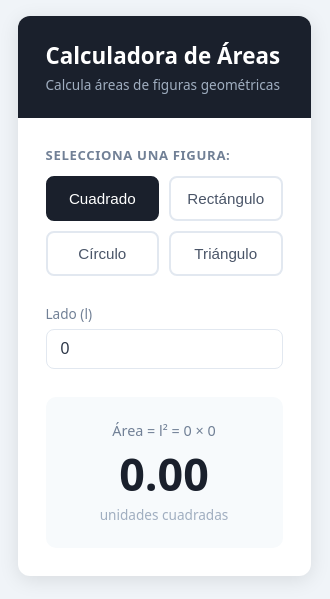
Test: Calculadora de Áreas › debe calcular correctamente el área del Cuadrado
Step 1. Type "5" into the number field → (164, 349), box left=46, top=329, right=282, bottom=369
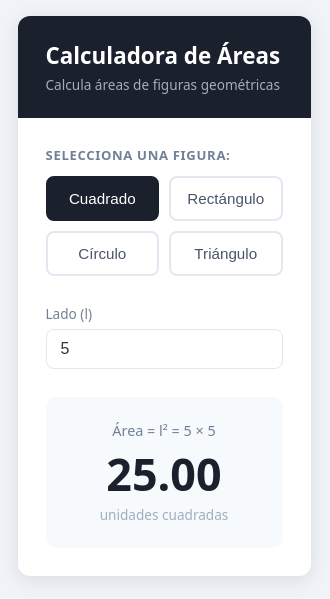
Check: the text with class "area-valor" reads "25.00", box left=106, top=443, right=222, bottom=504
